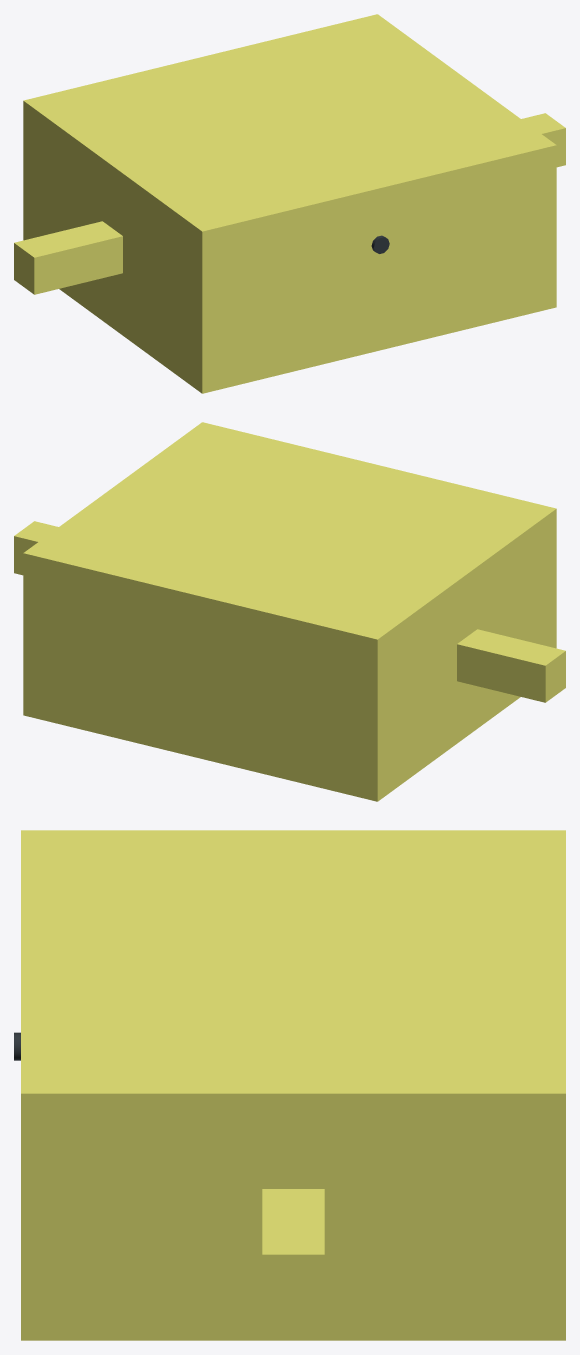
3 views of the same model, one above another, from view 1: azimuth 30°, elevation 25°; view 2: azimuth 150°, elevation 25°; view 3: azimuth 270°, elevation 25° (orthographic). The views are drawn at different scales.
Visible parts, largest first — view 1: visualCarriage, object 13; view 2: visualCarriage, object 13; view 3: visualCarriage, object 13.
Part boxes in pixels (box(x1,y1,x2,y2)): visualCarriage: box(23, 14, 556, 393); object 13: box(14, 113, 565, 294); visualCarriage: box(23, 422, 556, 801); object 13: box(14, 521, 565, 702); visualCarriage: box(21, 830, 565, 1340); object 13: box(262, 1189, 324, 1310).
Size of the model in its own units: 1.2 by 0.35 by 0.709.
